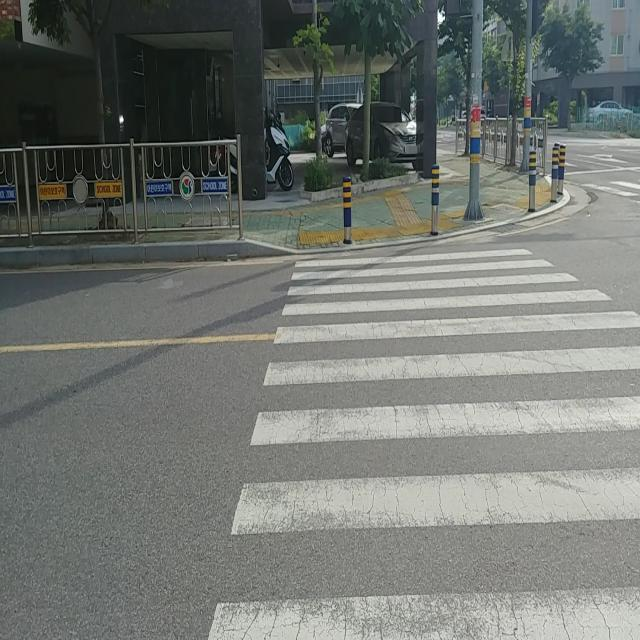횡단보도: (205, 243, 640, 640), (581, 174, 640, 208)
